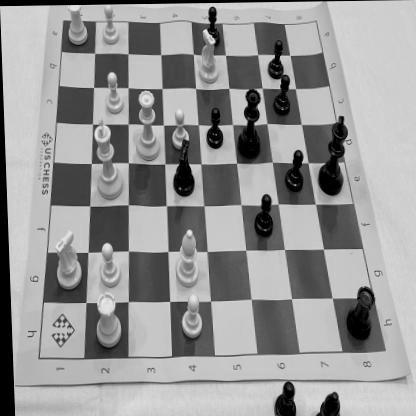black-king: (314, 110, 352, 199)
black-knight: (167, 139, 200, 200)
black-pawn: (247, 190, 274, 240), (281, 146, 305, 196), (201, 104, 226, 150), (270, 73, 294, 120), (198, 3, 223, 48), (262, 36, 286, 81)
black-queen: (232, 83, 268, 161)
black-rook: (338, 282, 376, 344)
white-bishop: (168, 224, 200, 289)
white-king: (88, 115, 124, 200)
white-knight: (48, 220, 84, 291)
white-pawn: (175, 290, 204, 340), (92, 239, 120, 286), (100, 68, 126, 114), (97, 4, 123, 46), (169, 107, 190, 150)
white-queen: (131, 85, 162, 161)
white-rook: (87, 288, 124, 349), (62, 4, 91, 48)
